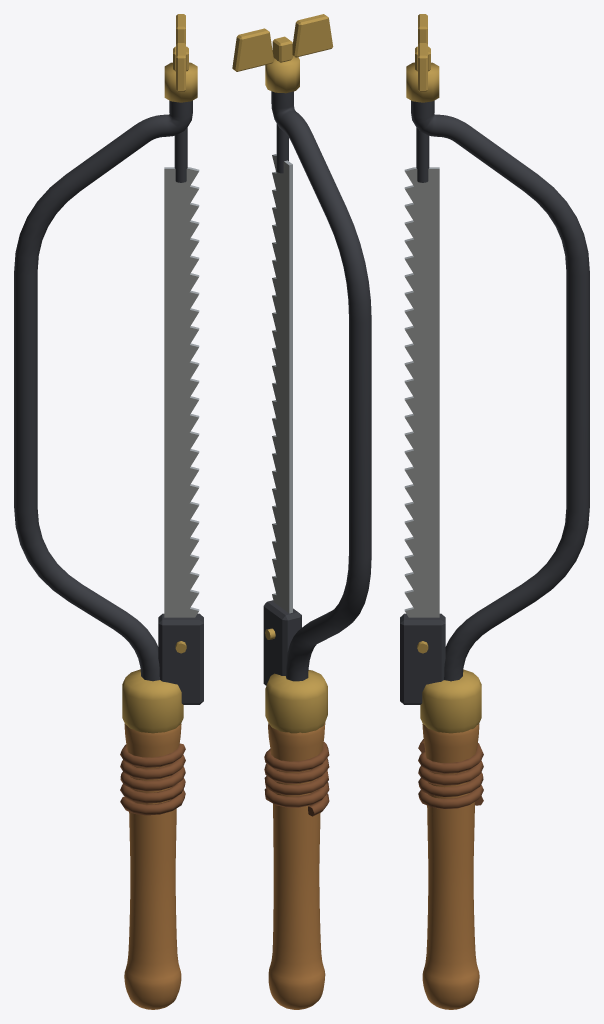
Rendered from tool_bonesaw.fbx.
The picture shows the model from 3 angles, left to right: view 1: azimuth 90°, elevation 25°; view 2: azimuth 210°, elevation 25°; view 3: azimuth 270°, elevation 25°; orthographic projection.
Parts seen in each view (by area): view 1: Tool_BoneSaw_Frame, Tool_BoneSaw_Blade, Tool_BoneSaw_Handle, Tool_BoneSaw_Hardware, Tool_BoneSaw_GripWrap; view 2: Tool_BoneSaw_Frame, Tool_BoneSaw_Handle, Tool_BoneSaw_Blade, Tool_BoneSaw_Hardware, Tool_BoneSaw_GripWrap; view 3: Tool_BoneSaw_Frame, Tool_BoneSaw_Blade, Tool_BoneSaw_Handle, Tool_BoneSaw_Hardware, Tool_BoneSaw_GripWrap.
Part boxes in pixels (bbox=[...]): Tool_BoneSaw_Frame: bbox=[14, 100, 203, 704]; Tool_BoneSaw_Blade: bbox=[164, 167, 199, 617]; Tool_BoneSaw_Handle: bbox=[124, 724, 181, 1009]; Tool_BoneSaw_Hardware: bbox=[122, 14, 197, 733]; Tool_BoneSaw_GripWrap: bbox=[120, 743, 185, 815]; Tool_BoneSaw_Frame: bbox=[263, 91, 371, 685]; Tool_BoneSaw_Handle: bbox=[268, 722, 325, 1009]; Tool_BoneSaw_Blade: bbox=[272, 154, 292, 613]; Tool_BoneSaw_Hardware: bbox=[232, 14, 333, 733]; Tool_BoneSaw_GripWrap: bbox=[264, 742, 329, 816]; Tool_BoneSaw_Frame: bbox=[400, 100, 589, 704]; Tool_BoneSaw_Blade: bbox=[404, 167, 439, 617]; Tool_BoneSaw_Handle: bbox=[422, 724, 479, 1009]; Tool_BoneSaw_Hardware: bbox=[406, 14, 481, 733]; Tool_BoneSaw_GripWrap: bbox=[418, 739, 483, 809].
Bounding box in the file's own units: 8.45 × 80.02 × 14.18.
